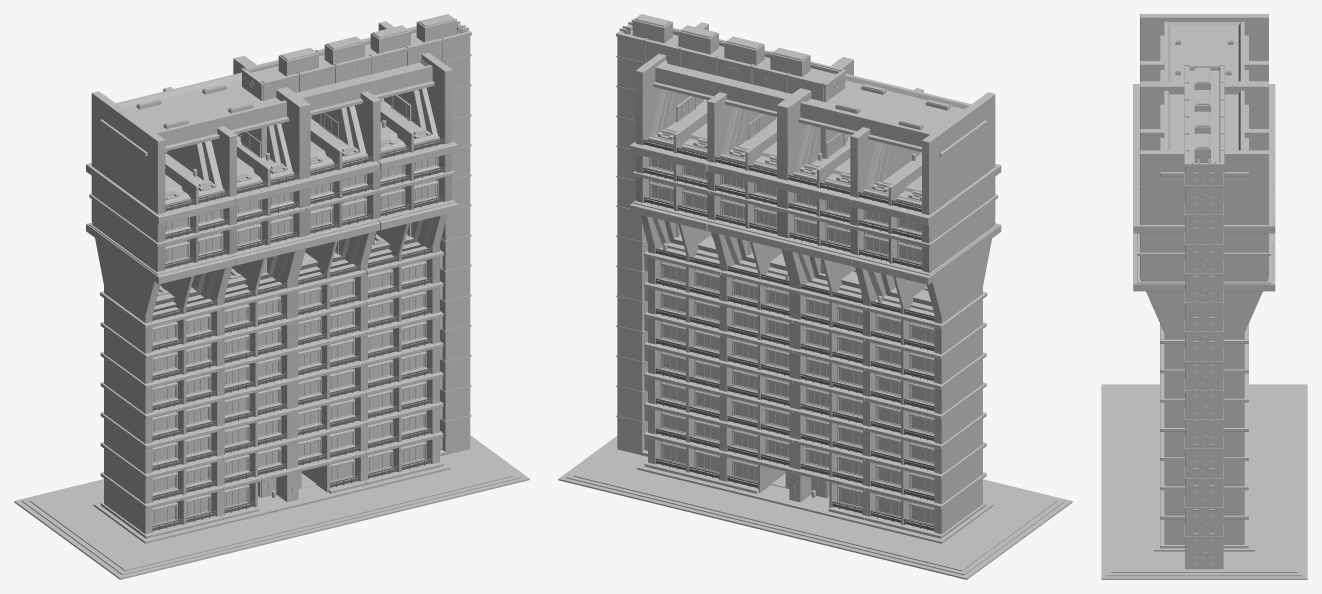
The model's file is Kitbash3D_Brutalist_Building_Large02.fbx.
The picture shows the model from 3 angles, left to right: view 1: azimuth 30°, elevation 25°; view 2: azimuth 150°, elevation 25°; view 3: azimuth 270°, elevation 25°; orthographic projection. The views are drawn at different scales.
Parts seen in each view (by area): view 1: L_Bldg_F_Bldg_Main, L_Bldg_F_Bldg_Ribs, L_Bldg_F_WindowsGlassDoors, L_Bldg_F_Ground_Stone, L_Bldg_F_ElevTower, L_Bldg_F_Rail_Conc, L_Bldg_F_WinDoor_Pods, L_Bldg_F_ConcWinPods, L_Bldg_F_Props_Obj_Details, L_Bldg_F_Step; view 2: L_Bldg_F_Bldg_Main, L_Bldg_F_Bldg_Ribs, L_Bldg_F_WindowsGlassDoors, L_Bldg_F_Ground_Stone, L_Bldg_F_ElevTower, L_Bldg_F_Rail_Conc, L_Bldg_F_WinDoor_Pods, L_Bldg_F_ConcWinPods, L_Bldg_F_Props_Obj_Details, L_Bldg_F_Step; view 3: L_Bldg_F_Bldg_Ribs, L_Bldg_F_Ground_Stone, L_Bldg_F_ElevTower, L_Bldg_F_Bldg_Main, L_Bldg_F_Props_Obj_Details, L_Bldg_F_Step, L_Bldg_F_WindowsGlassDoors.
Part boxes in pixels (<box>): L_Bldg_F_Bldg_Main: <box>86,59,457,538</box>; L_Bldg_F_Bldg_Ribs: <box>91,21,452,533</box>; L_Bldg_F_WindowsGlassDoors: <box>152,58,435,524</box>; L_Bldg_F_Ground_Stone: <box>14,435,529,579</box>; L_Bldg_F_ElevTower: <box>241,18,471,497</box>; L_Bldg_F_Rail_Conc: <box>152,138,444,531</box>; L_Bldg_F_WinDoor_Pods: <box>152,57,436,525</box>; L_Bldg_F_ConcWinPods: <box>152,156,438,525</box>; L_Bldg_F_Props_Obj_Details: <box>136,14,456,493</box>; L_Bldg_F_Step: <box>93,460,450,543</box>; L_Bldg_F_Bldg_Main: <box>630,60,1001,538</box>; L_Bldg_F_Bldg_Ribs: <box>635,22,995,534</box>; L_Bldg_F_WindowsGlassDoors: <box>651,59,934,524</box>; L_Bldg_F_Ground_Stone: <box>558,436,1072,579</box>; L_Bldg_F_ElevTower: <box>616,19,846,497</box>; L_Bldg_F_Rail_Conc: <box>643,139,934,531</box>; L_Bldg_F_WinDoor_Pods: <box>650,58,934,525</box>; L_Bldg_F_ConcWinPods: <box>649,157,934,525</box>; L_Bldg_F_Props_Obj_Details: <box>632,14,950,493</box>; L_Bldg_F_Step: <box>637,460,993,543</box>; L_Bldg_F_Bldg_Ribs: <box>1140,14,1268,544</box>; L_Bldg_F_Ground_Stone: <box>1101,384,1307,579</box>; L_Bldg_F_ElevTower: <box>1184,64,1224,569</box>; L_Bldg_F_Bldg_Main: <box>1133,21,1275,548</box>; L_Bldg_F_Props_Obj_Details: <box>1175,31,1233,162</box>; L_Bldg_F_Step: <box>1154,405,1254,551</box>; L_Bldg_F_WindowsGlassDoors: <box>1201,172,1207,557</box>.
Bounding box in the file's own units: 49.45 × 49.84 × 22.19.
